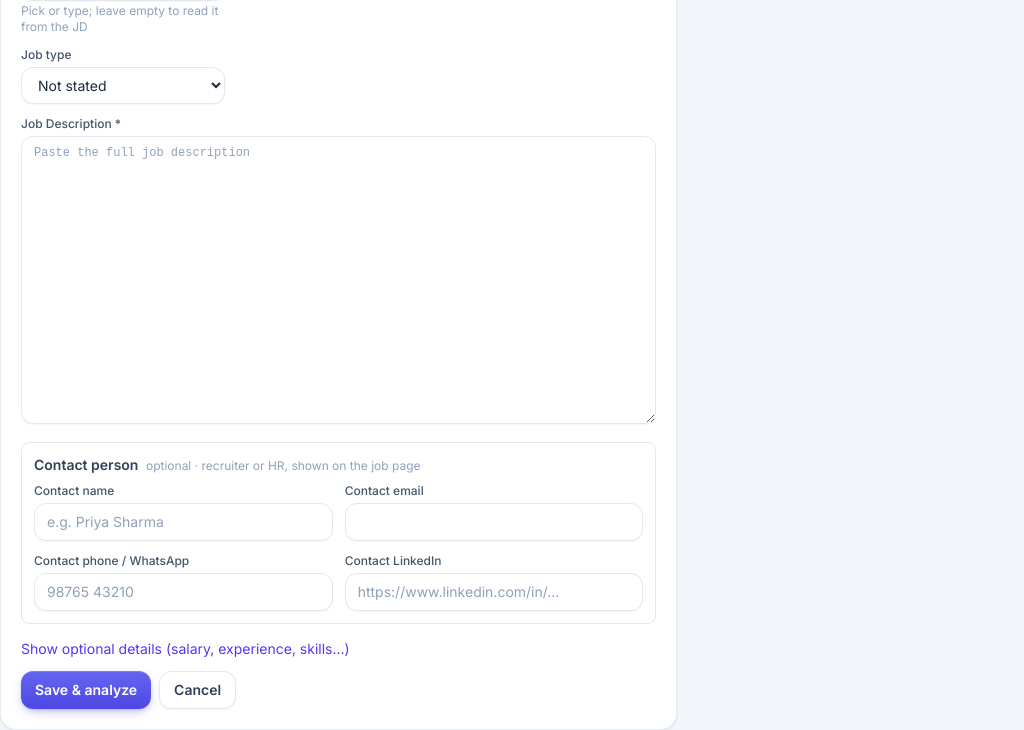
add job form › blocks submission when required fields are missing
(page scrolled)
What coordinates should you click on to do the following:
click the button "Save & analyze"
I would click on:
 (86, 690)
Its box is left=21, top=671, right=151, bottom=709.
(page scrolled)
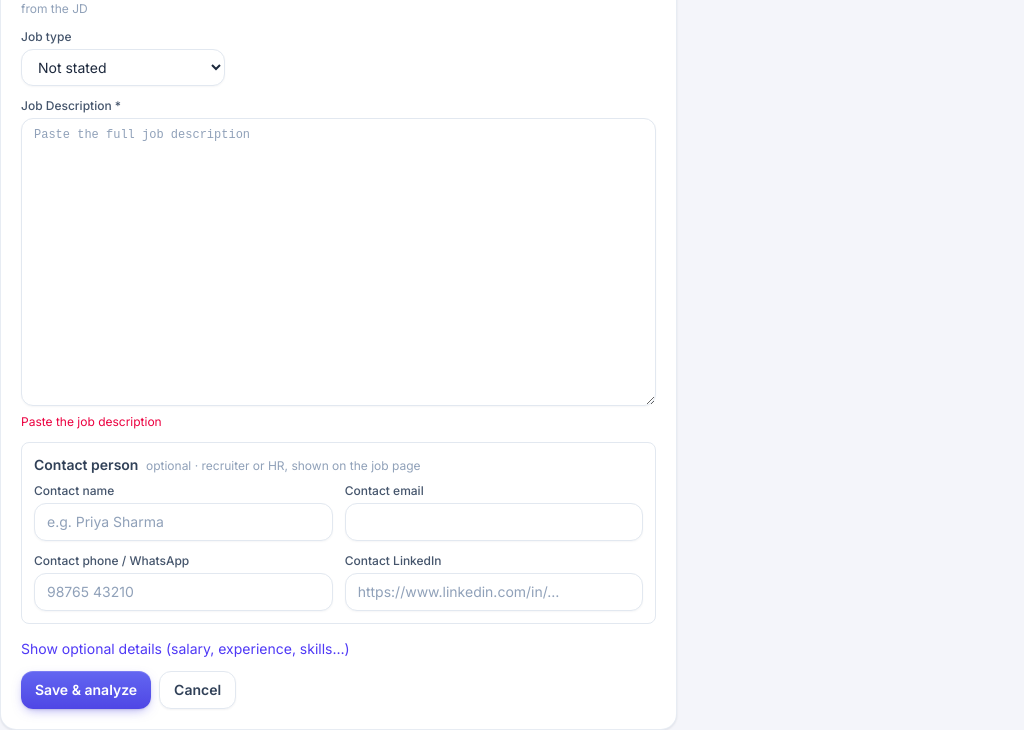
Now the text "Paste the job description" is shown, box left=21, top=414, right=162, bottom=429
